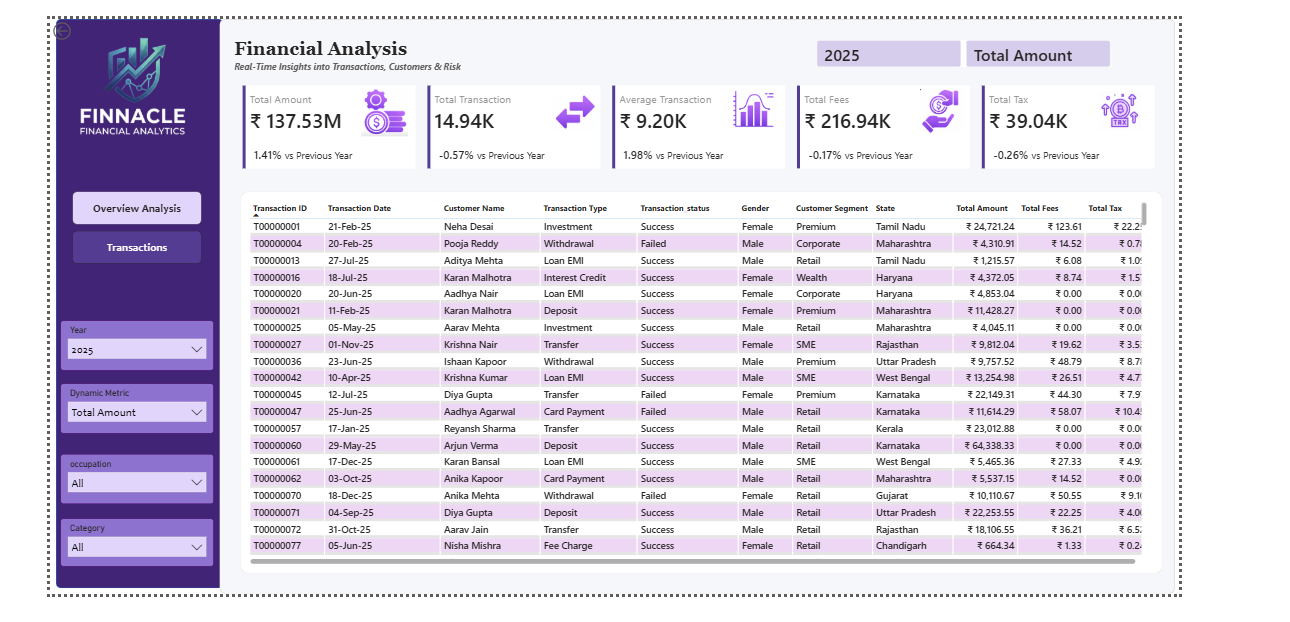

The dashboard page shown, as its layout file describes it:
{"tool":"powerbi","page":{"name":"Transactions","canvas":[1881,957],"ordinal":1},"visuals":[{"type":"shape","box":[10.6,0,279,948.7],"z":0},{"type":"shape","box":[282,0,1592.5,957.5],"z":1000},{"type":"image","box":[0,0,288.3,240],"z":2000},{"type":"cardVisual","fields":{"Data":["Calander table.Dashboard Title"]},"box":[290,2.5,418.8,115.4],"z":3000},{"type":"cardVisual","fields":{"Data":["finance_transactions.Total Amount","finance_transactions.Total Transaction","finance_transactions.Average Transaction","finance_transactions.Total Fees","finance_transactions.Total Tax"]},"box":[316,106,1535,150],"z":4000},{"type":"image","box":[516,118,86,78],"z":5000},{"type":"image","box":[838,118,76,78],"z":6000},{"type":"image","box":[1450,114,74,78],"z":7000},{"type":"image","box":[1128,118,92,64],"z":8000},{"type":"image","box":[1736,120,98,66],"z":9000},{"type":"shape","box":[316.7,286.7,1536.7,636.7],"z":10000},{"type":"cardVisual","fields":{"Data":["finance_transactions.Selected Year","finance_transactions.Selected Dynamic Measure"]},"box":[1273.3,30,500,55],"z":11000},{"type":"tableEx","fields":{"Values":["finance_transactions.Transaction_id","finance_transactions.Transaction_Date","customers.customer_name","finance_transactions.Transaction_type","finance_transactions.Transaction_status","customers.gender","customers.customer_segment","customers.state","finance_transactions.Total Amount","finance_transactions.Total Fees","finance_transactions.Total Tax"]},"box":[327.8,300,1505.6,613.3],"z":12000},{"type":"actionButton","box":[0,0,100,40],"z":13000},{"type":"slicer","fields":{"Values":["Calander table.Year"]},"box":[17.5,502.5,255,83.3],"z":14000},{"type":"slicer","fields":{"Values":["Dynamic Metric.Dynamic Metric"]},"box":[17.5,607.5,255,83],"z":15000},{"type":"slicer","fields":{"Values":["customers.occupation"]},"box":[17.5,725,255,83],"z":16000},{"type":"slicer","fields":{"Values":["finance_transactions.Merchant Category"]},"box":[17.5,832.5,255,80],"z":17000},{"type":"pageNavigator","box":[37.5,287.5,215,120],"z":18000}]}

Visuals, with their boxes on the page's 1881x957 design canvas (x1, y1, x2, y2). These are canvas units, not pixel positions in the 1290x622 screenshot, which may show the page scaled, cropped or inside an application window:
shape: detection(11, 0, 290, 949)
shape: detection(282, 0, 1874, 958)
image: detection(0, 0, 288, 240)
cardVisual - Calander table.Dashboard Title: detection(290, 2, 709, 118)
cardVisual - finance_transactions.Total Amount x finance_transactions.Total Transaction: detection(316, 106, 1851, 256)
image: detection(516, 118, 602, 196)
image: detection(838, 118, 914, 196)
image: detection(1450, 114, 1524, 192)
image: detection(1128, 118, 1220, 182)
image: detection(1736, 120, 1834, 186)
shape: detection(317, 287, 1853, 923)
cardVisual - finance_transactions.Selected Year x finance_transactions.Selected Dynamic Measure: detection(1273, 30, 1773, 85)
tableEx - finance_transactions.Transaction_id x finance_transactions.Transaction_Date: detection(328, 300, 1833, 913)
actionButton: detection(0, 0, 100, 40)
slicer - Calander table.Year: detection(18, 502, 272, 586)
slicer - Dynamic Metric.Dynamic Metric: detection(18, 608, 272, 690)
slicer - customers.occupation: detection(18, 725, 272, 808)
slicer - finance_transactions.Merchant Category: detection(18, 832, 272, 912)
pageNavigator: detection(38, 288, 252, 408)
